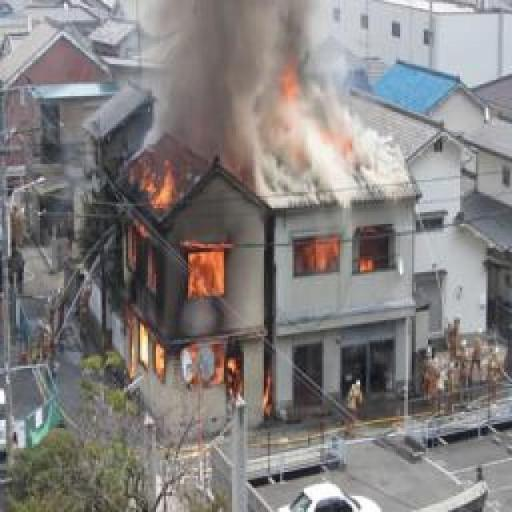smoke: (106, 135, 242, 394), (279, 74, 369, 162), (286, 227, 398, 280)
